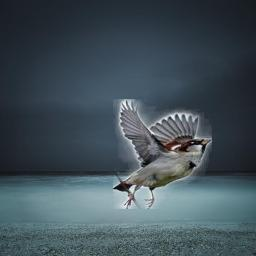Sparrow: (113, 99, 212, 209)
